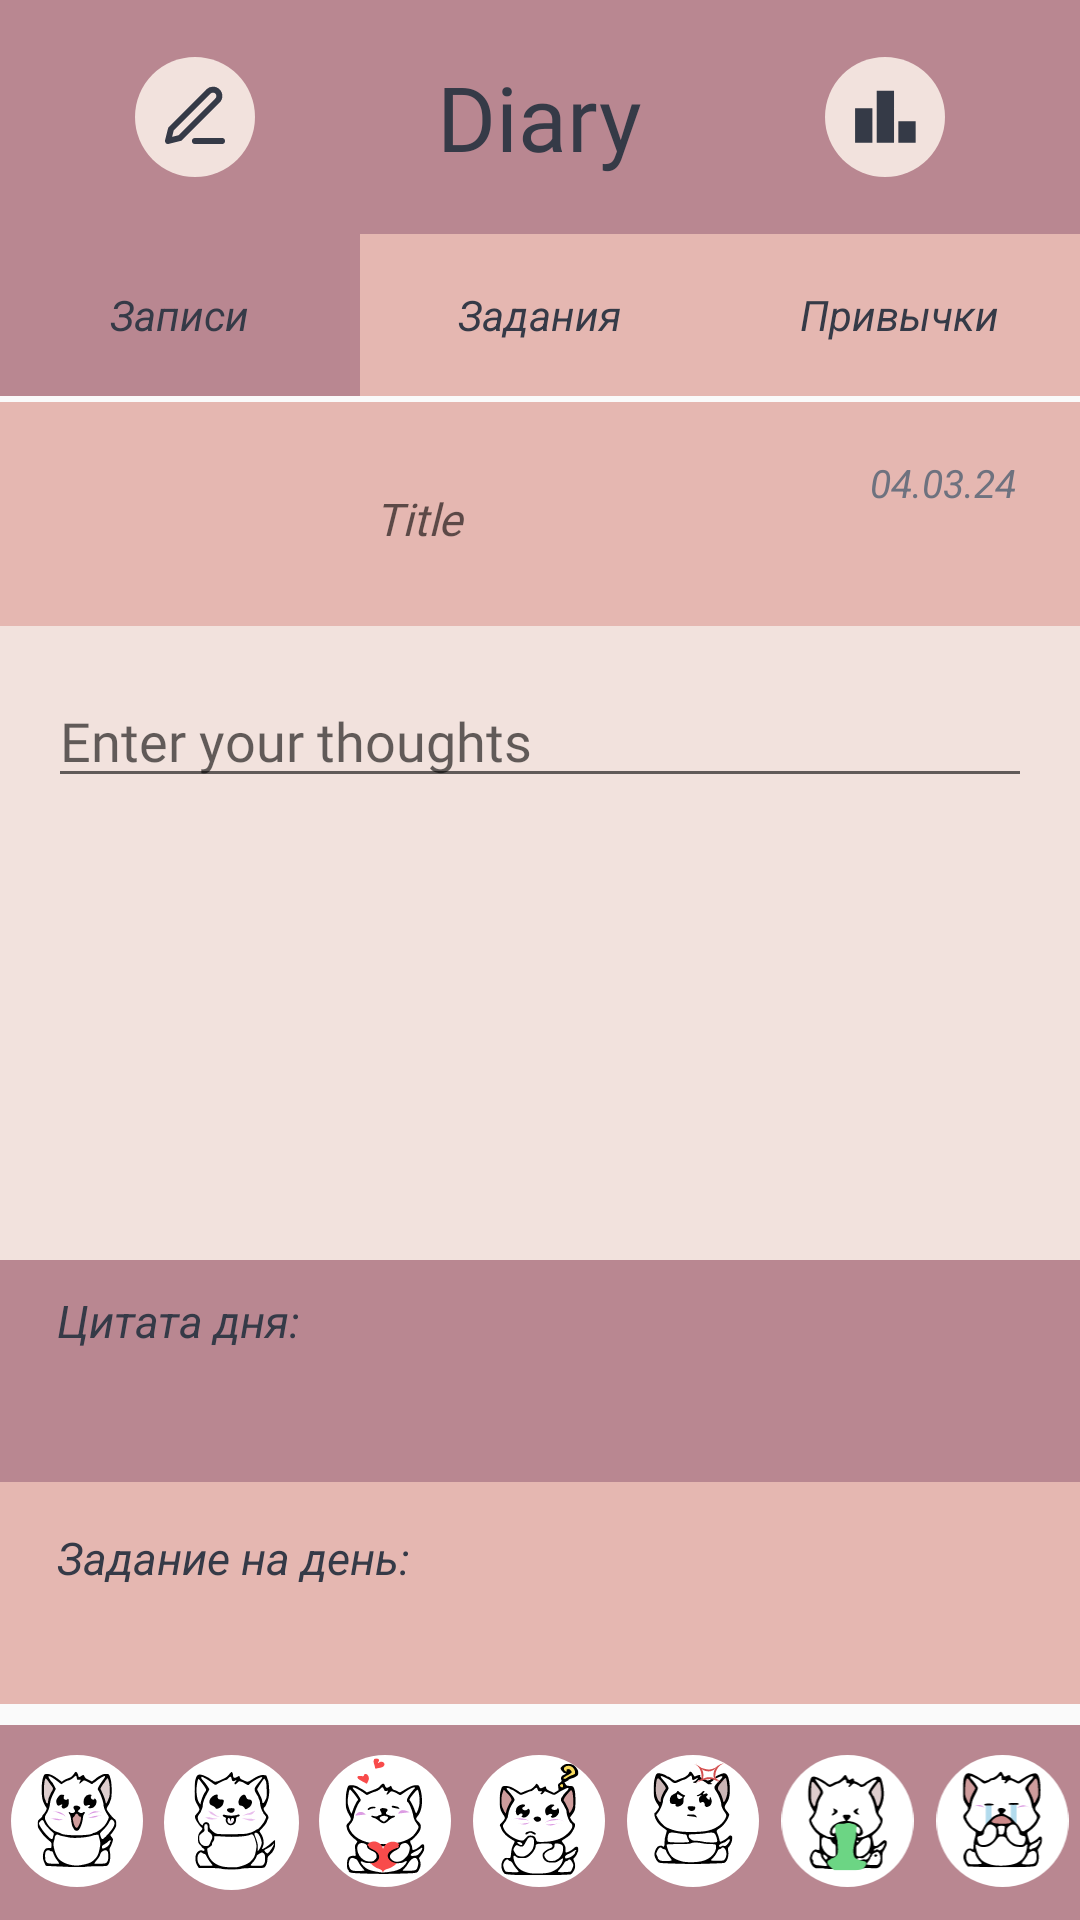

Screen size 1080×1920. Icon name, then its center in pixels as (x,y):
angry: (693,1821)
cry: (1002,1821)
happy: (77,1821)
love: (385,1821)
nice: (231,1822)
statistic: (885,117)
text: (195,117)
